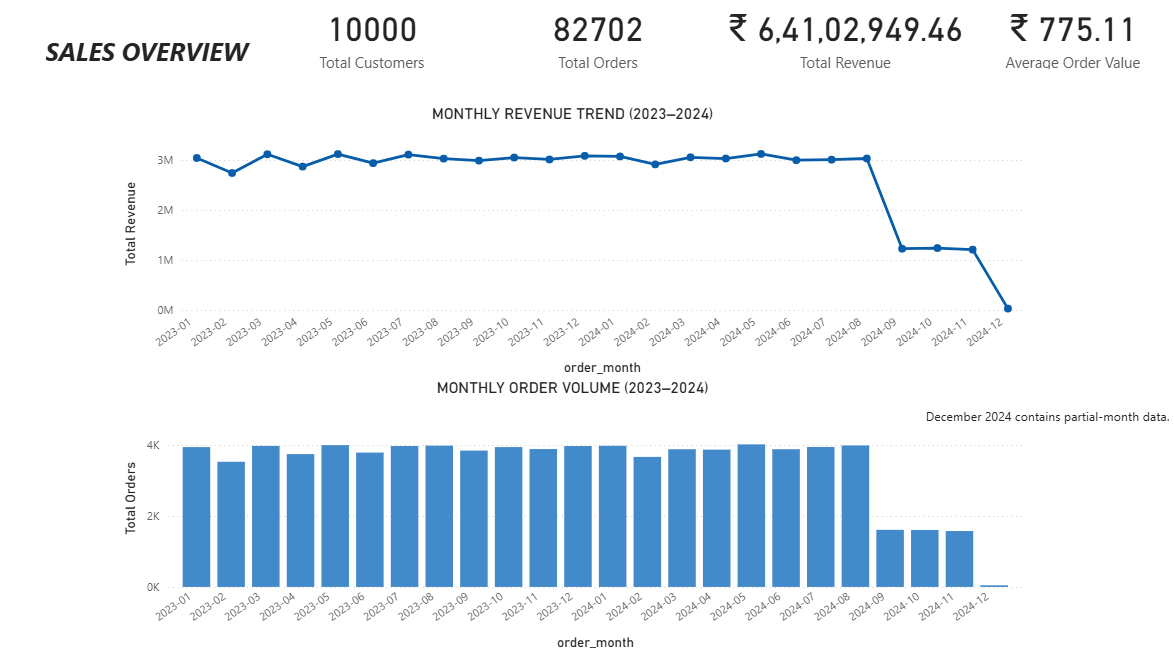

The dashboard page shown, as its layout file describes it:
{"tool":"powerbi","page":{"name":"Sales Overview","canvas":[1280,720],"ordinal":0},"visuals":[{"type":"card","fields":{"Values":["vw_clean_customers.Total Customers"]},"box":[294,12,226,82],"z":0},{"type":"card","fields":{"Values":["vw_monthly_sales.Total Orders"]},"box":[532,12,238,82],"z":1000},{"type":"card","fields":{"Values":["vw_monthly_sales.Total Revenue"]},"box":[770,12,296,82],"z":2000},{"type":"card","fields":{"Values":["vw_monthly_sales.Average Order Value"]},"box":[1050,12,230,82],"z":3000},{"type":"lineChart","title":"MONTHLY REVENUE TREND (2023–2024)","fields":{"Category":["vw_monthly_sales.order_month"],"Y":["vw_monthly_sales.Total Revenue"]},"box":[135,126.7,980,296.7],"z":4000},{"type":"clusteredColumnChart","title":"MONTHLY ORDER VOLUME (2023–2024)","fields":{"Category":["vw_monthly_sales.order_month"],"Y":["vw_monthly_sales.Total Orders"]},"box":[135,423.3,980,296.7],"z":5000},{"type":"textbox","box":[50,28,278,84],"z":6000},{"type":"textbox","box":[1000,448,280,38],"z":7000}]}

Visuals, with their boxes in screenshot pixels (x1, y1, x2, y2), scaled from the page's 1280x720 canvas onto the 1174x649 screenshot:
card - vw_clean_customers.Total Customers: 270/11/477/85
card - vw_monthly_sales.Total Orders: 488/11/706/85
card - vw_monthly_sales.Total Revenue: 706/11/978/85
card - vw_monthly_sales.Average Order Value: 963/11/1173/85
"MONTHLY REVENUE TREND (2023–2024)" lineChart: 124/114/1023/382
"MONTHLY ORDER VOLUME (2023–2024)" clusteredColumnChart: 124/382/1023/648
textbox: 46/25/301/101
textbox: 917/404/1173/438
